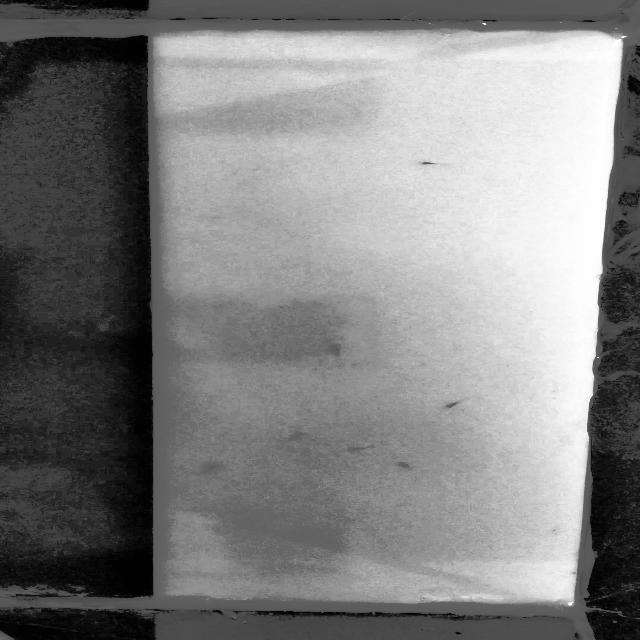shrimp: (315, 336, 366, 364), (402, 152, 459, 174), (433, 392, 481, 412), (334, 439, 382, 456), (203, 453, 233, 477), (285, 427, 309, 442), (394, 460, 414, 470)
